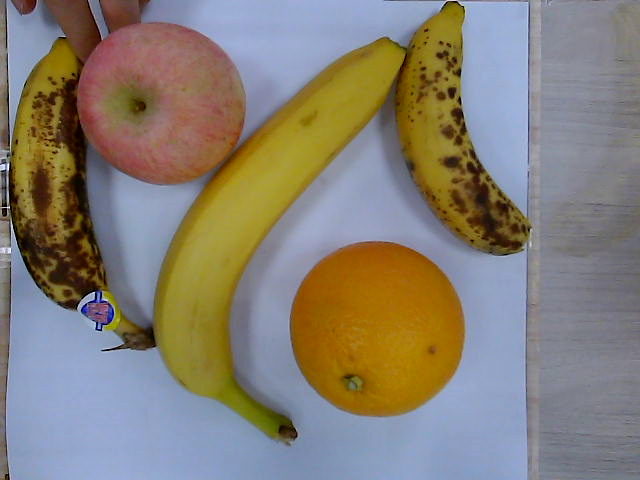fresh_apple: (75, 19, 246, 184)
fresh_banana: (157, 40, 404, 444)
fresh_orange: (292, 240, 465, 417)
rotten_banana: (10, 39, 153, 349), (396, 3, 533, 259)
